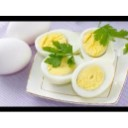begg: (75, 59, 114, 95), (35, 31, 80, 55), (1, 37, 30, 73), (82, 27, 114, 56)
